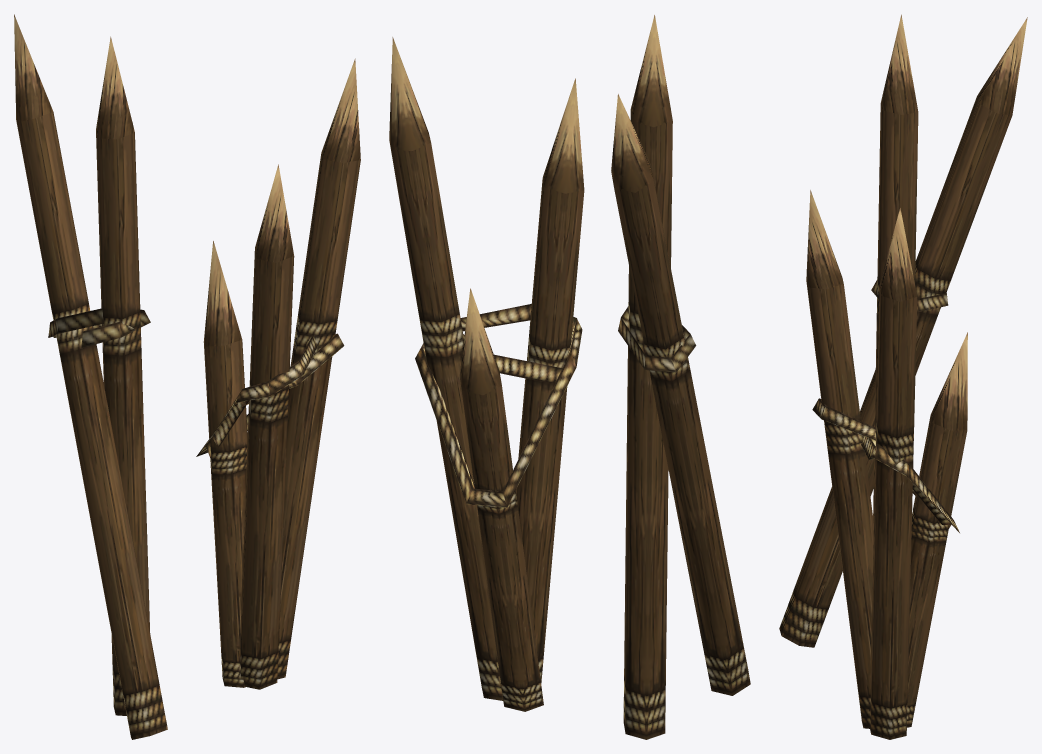
The model's file is 2_YiZhan_DaiJianMuGun_01.FBX.
3 renders of one model, left to right at view 1: azimuth 30°, elevation 25°; view 2: azimuth 150°, elevation 25°; view 3: azimuth 270°, elevation 25°, orthographic. The views are drawn at different scales.
Visible parts, largest first — view 1: 2_YiZhan_DaiJianMuGun_01_02, 2_YiZhan_DaiJianMuGun_01_01; view 2: 2_YiZhan_DaiJianMuGun_01_02, 2_YiZhan_DaiJianMuGun_01_01; view 3: 2_YiZhan_DaiJianMuGun_01_02, 2_YiZhan_DaiJianMuGun_01_01.
Boxes of the visible parts, x1,y1,x2,y2 form: 2_YiZhan_DaiJianMuGun_01_02: (196,58,360,689); 2_YiZhan_DaiJianMuGun_01_01: (14,14,167,739); 2_YiZhan_DaiJianMuGun_01_02: (389,37,584,711); 2_YiZhan_DaiJianMuGun_01_01: (611,15,750,739); 2_YiZhan_DaiJianMuGun_01_02: (806,190,967,739); 2_YiZhan_DaiJianMuGun_01_01: (779,14,1027,647).
Size of the model in its own units: 261 by 574 by 199.
1 material, 1 textured.
